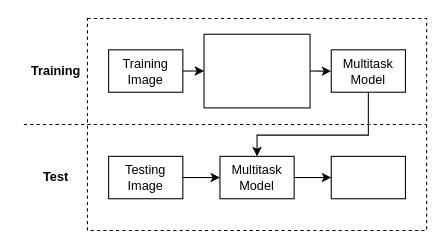
The diagram is 446 pixels wide and 249 high, and some of its shapes have lost their labels. The shapes that lost their labels are listed below. From the top down, each one's centre as x and y in pixels, then its label:
(256,70): Training data: object location object radian object class
(367,177): Final Result
